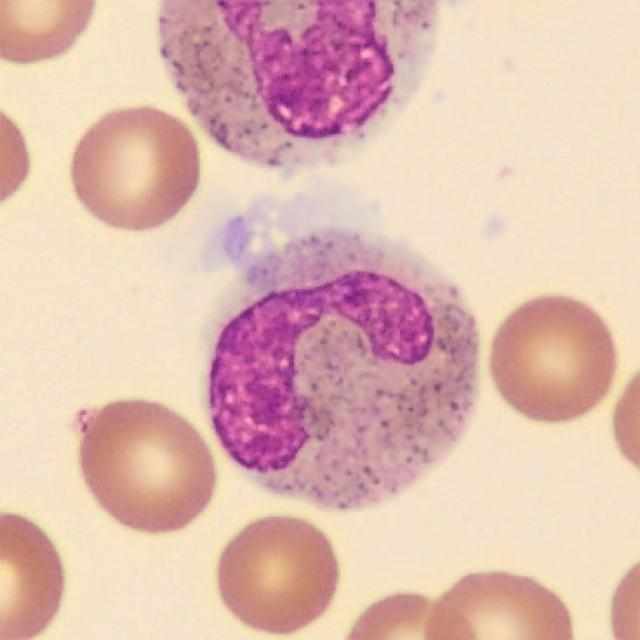Neutrofilo segmentado: (207, 230, 480, 512), (160, 0, 442, 171)
